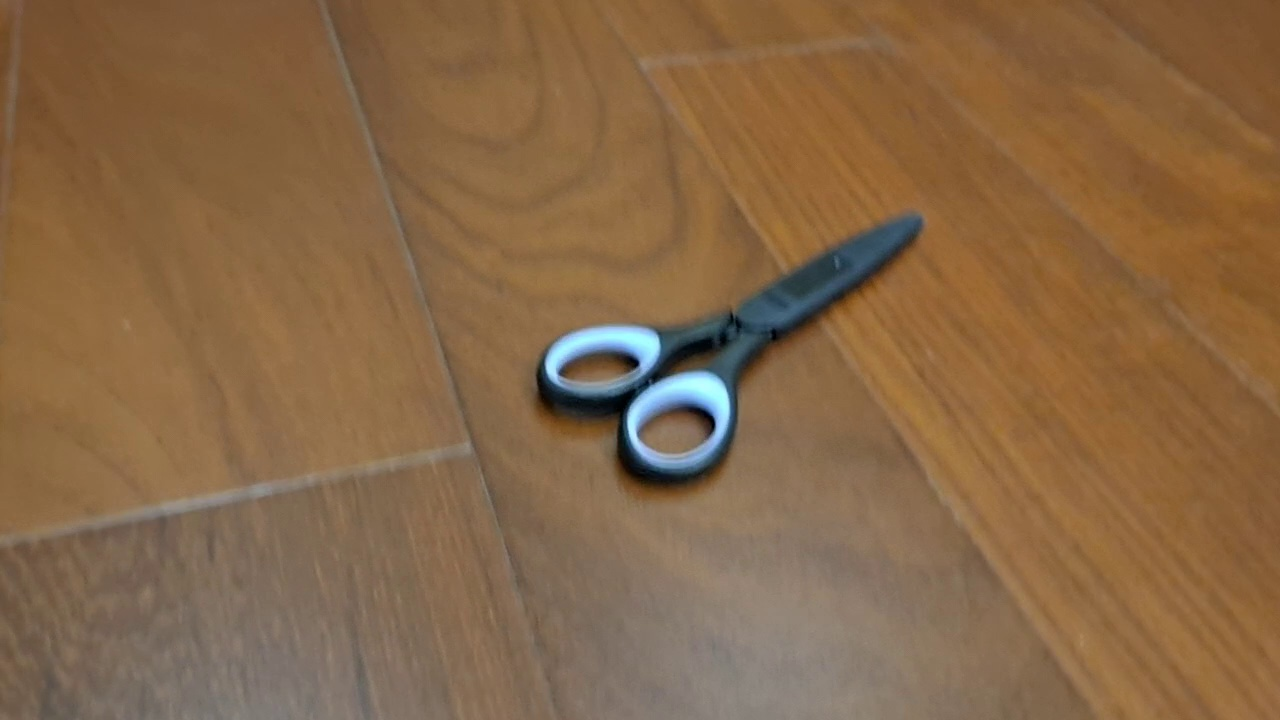scissors: (535, 209, 926, 489)
